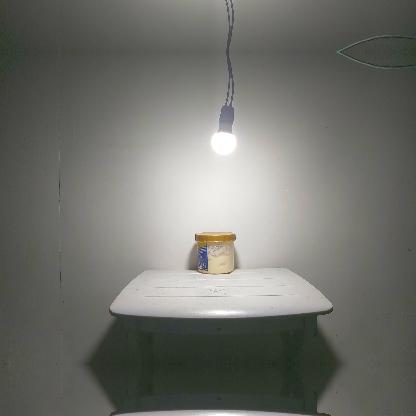Lady-s-Choice: (195, 231, 235, 273)
